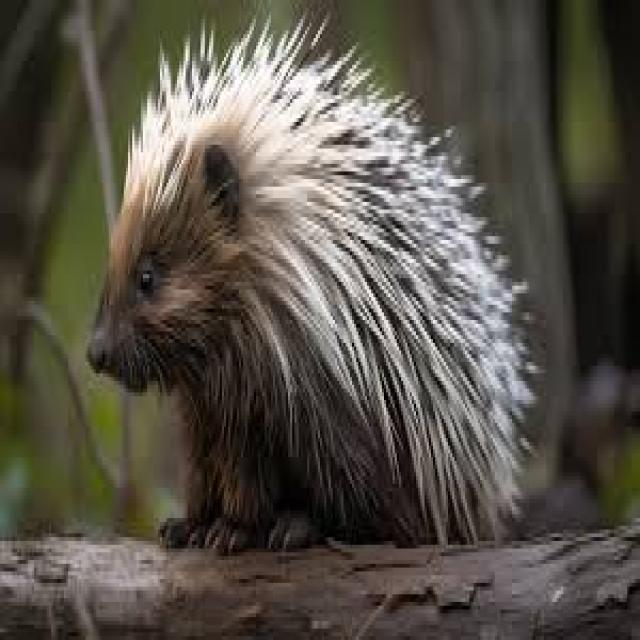Porcupine: (87, 30, 516, 549)
